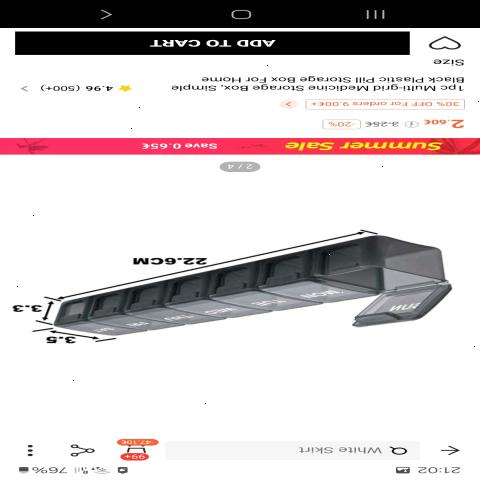PillBox: (23, 217, 458, 365)
